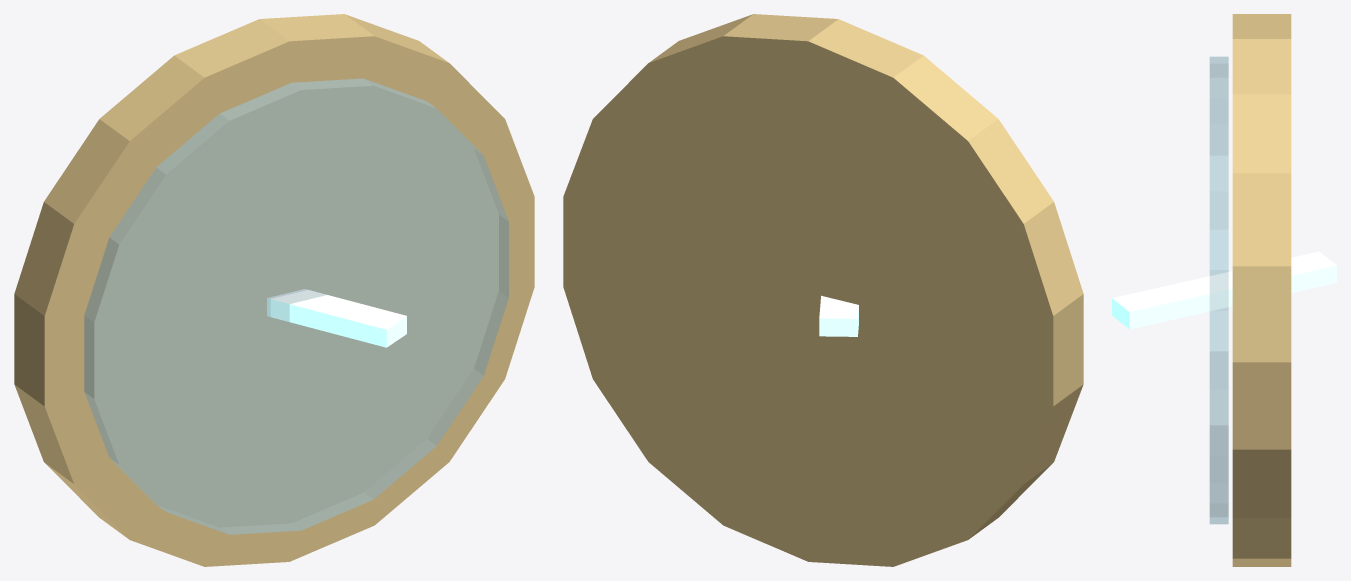
File: compass.glb
The picture shows the model from 3 angles, left to right: view 1: azimuth 30°, elevation 25°; view 2: azimuth 150°, elevation 25°; view 3: azimuth 270°, elevation 25°; orthographic projection. The views are drawn at different scales.
Visible parts, largest first — view 1: CompassCase, CompassGlass, CompassNeedle; view 2: CompassCase, CompassNeedle; view 3: CompassCase, CompassGlass, CompassNeedle.
Boxes of the visible parts, x1=… form: CompassCase: x1=14, y1=14, x2=534, y2=566; CompassGlass: x1=84, y1=78, x2=508, y2=534; CompassNeedle: x1=267, y1=289, x2=406, y2=347; CompassCase: x1=563, y1=14, x2=1083, y2=566; CompassNeedle: x1=819, y1=295, x2=858, y2=336; CompassCase: x1=1232, y1=14, x2=1291, y2=566; CompassGlass: x1=1209, y1=56, x2=1228, y2=524; CompassNeedle: x1=1112, y1=251, x2=1336, y2=329.
Size of the model in its own units: 0.5121 by 0.52 by 0.2107.
